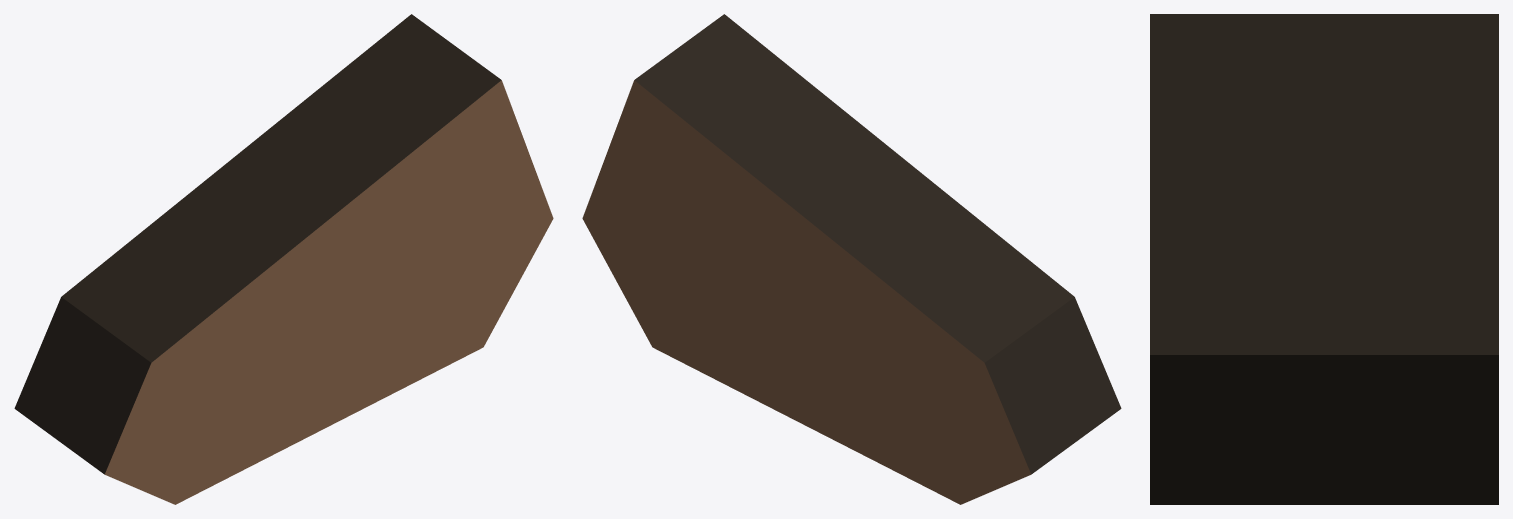
The model's file is SM_DoorShard_02_30.fbx.
3 views of the same model, side by side, from view 1: azimuth 30°, elevation 25°; view 2: azimuth 150°, elevation 25°; view 3: azimuth 270°, elevation 25° (orthographic). The views are drawn at different scales.
Visible parts, largest first — view 1: SM_DoorShard_02_30; view 2: SM_DoorShard_02_30; view 3: SM_DoorShard_02_30.
Part boxes in pixels (x1,y1,x2,y2): SM_DoorShard_02_30: (14,14,553,504); SM_DoorShard_02_30: (582,14,1121,504); SM_DoorShard_02_30: (1150,14,1498,504).
Size of the model in its own units: 45.97 by 16 by 33.79.
